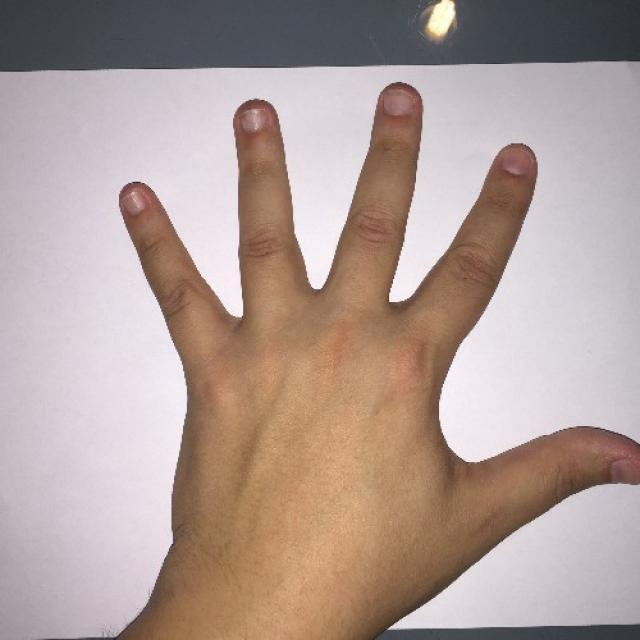paper: (120, 82, 640, 528)
